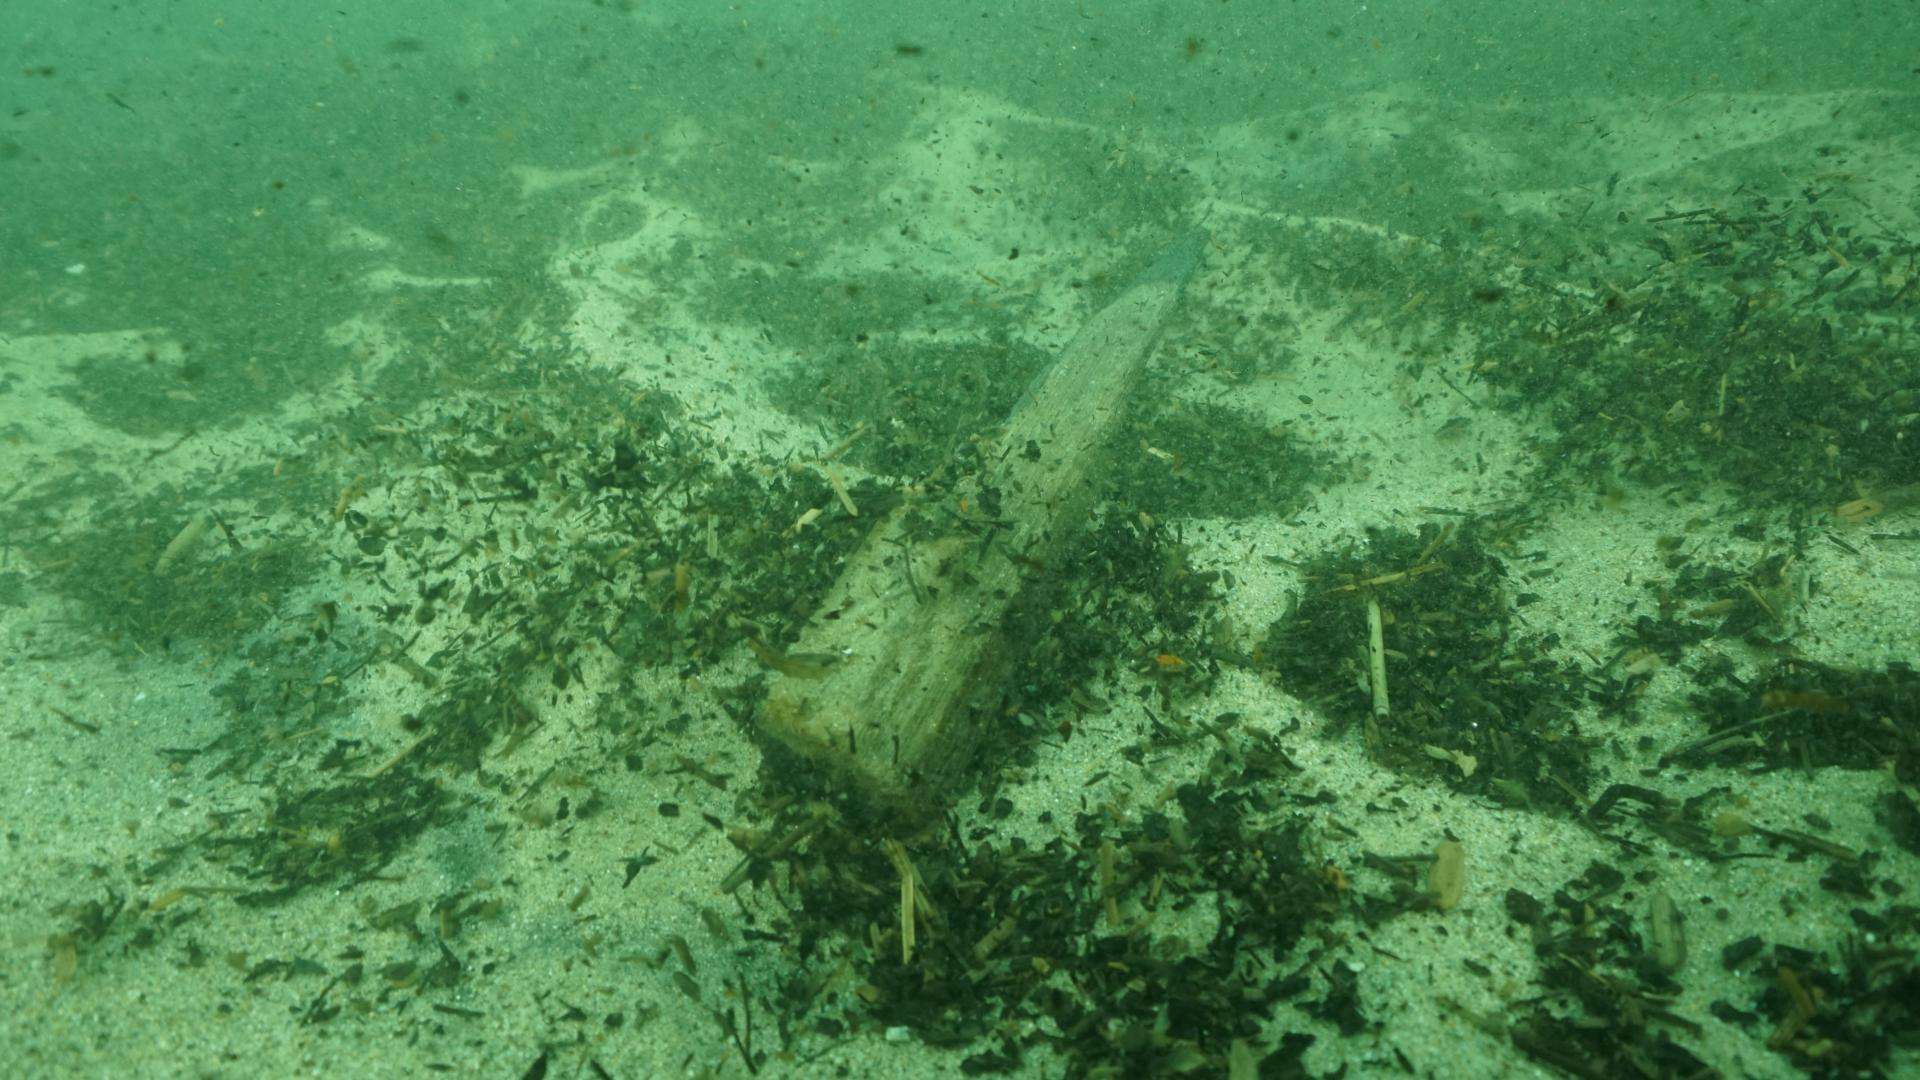wood: (742, 222, 1211, 836)
